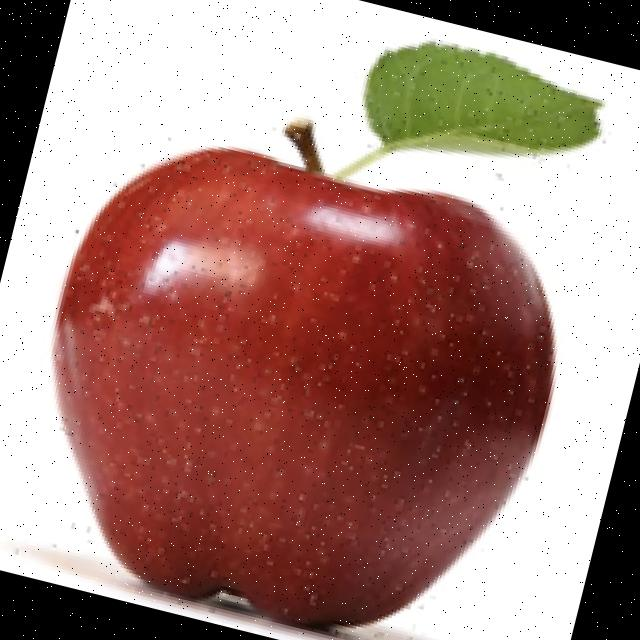apple: (0, 111, 559, 640)
